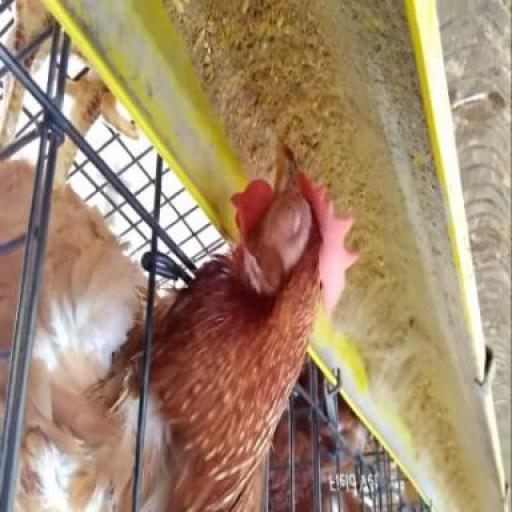disease: (266, 178, 324, 294)
